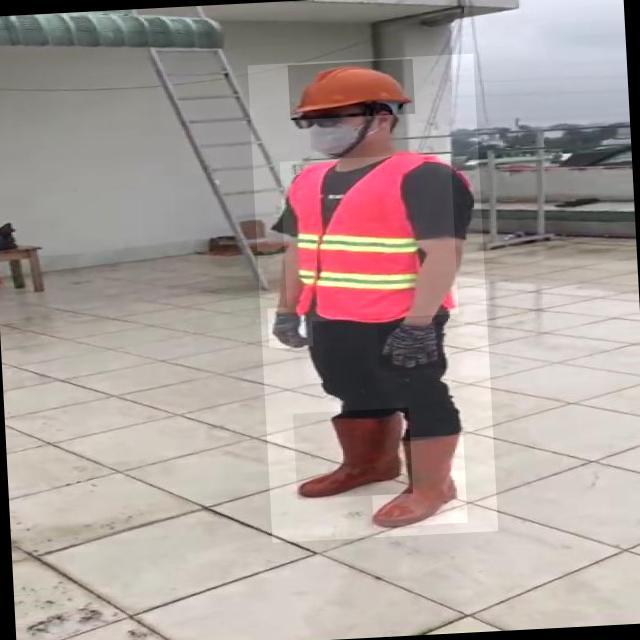Gloves: (378, 322, 446, 372), (268, 307, 314, 349)
Helmet: (288, 59, 417, 121)
Human: (248, 54, 499, 543)
Safety Boot: (293, 408, 413, 500), (370, 435, 468, 528)
Safety Vest: (280, 153, 459, 323)
